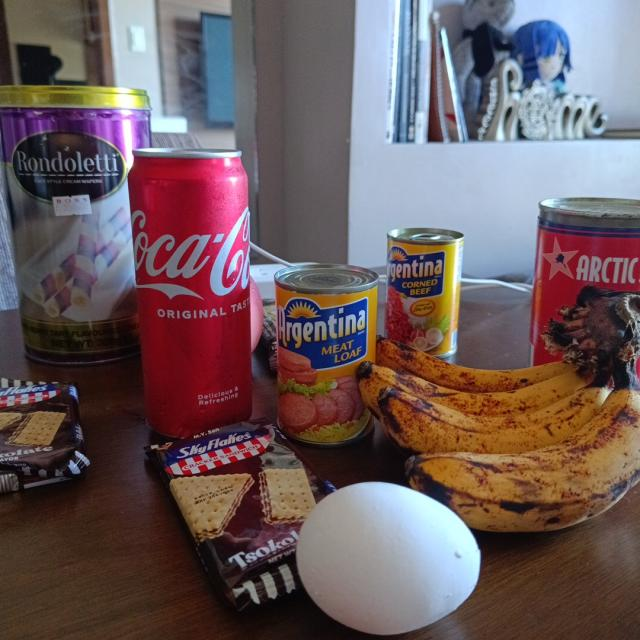coke: (128, 150, 248, 422)
egg: (296, 481, 479, 633)
